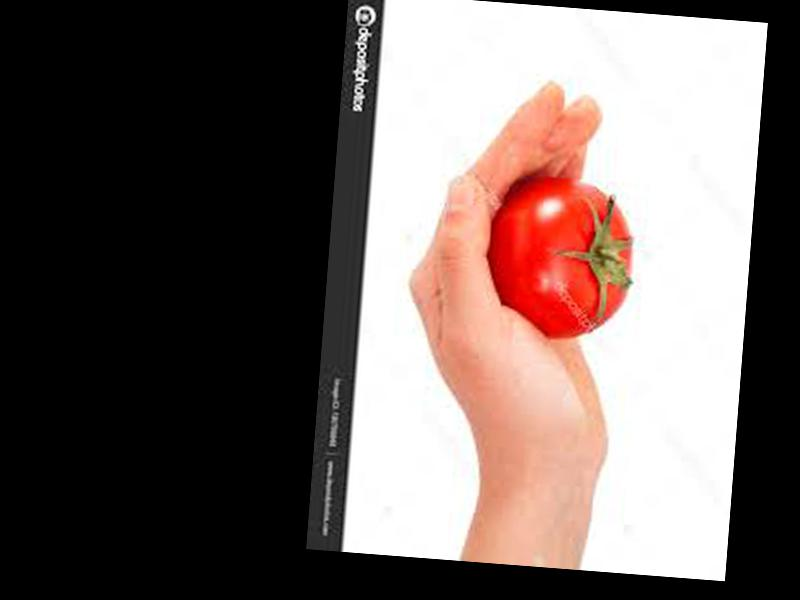Tomato: (484, 177, 636, 345)
